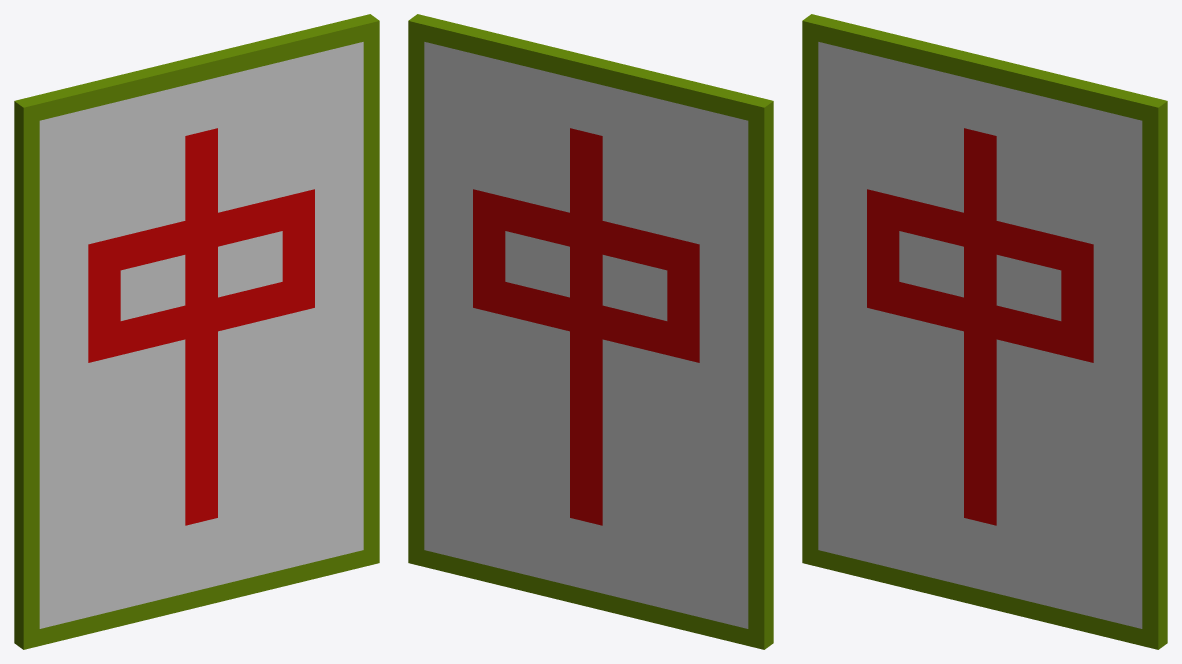
3 renders of one model, left to right at view 1: azimuth 30°, elevation 25°; view 2: azimuth 150°, elevation 25°; view 3: azimuth 330°, elevation 25°, orthographic.
Bounding box in the file's own units: 1.1 × 1.6 × 0.05.
